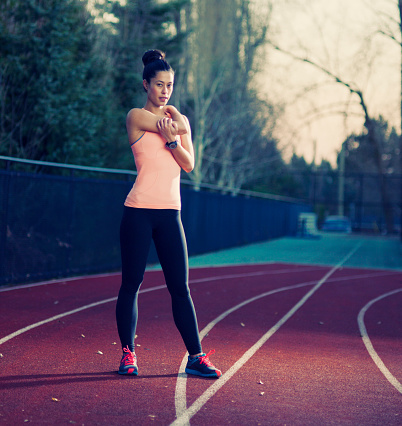em pe: (96, 52, 203, 372)
